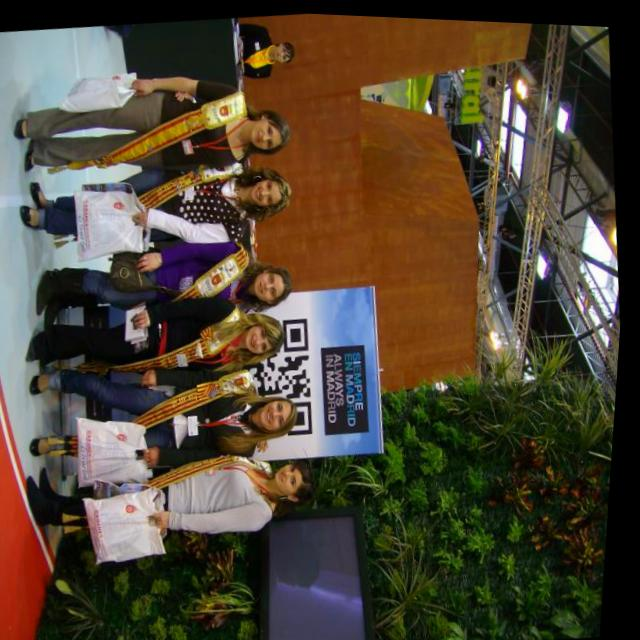qrcode: (239, 314, 325, 437)
